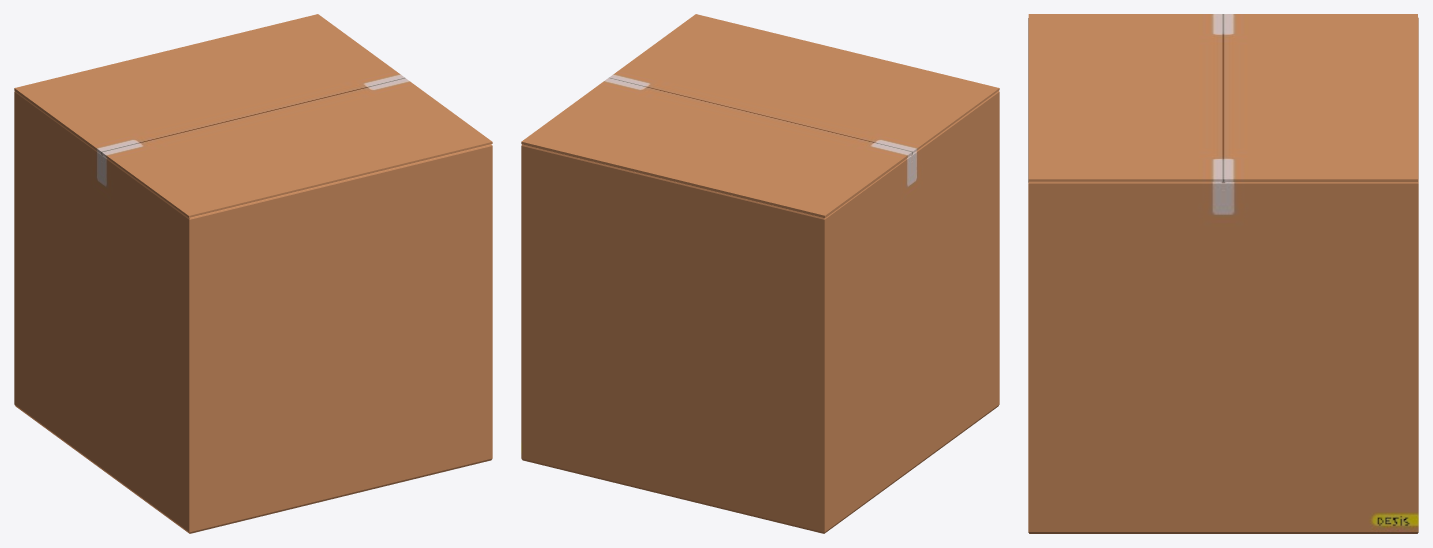
File: Caja.fbx
The picture shows the model from 3 angles, left to right: view 1: azimuth 30°, elevation 25°; view 2: azimuth 150°, elevation 25°; view 3: azimuth 270°, elevation 25°; orthographic projection. The views are drawn at different scales.
Visible parts, largest first — view 1: Caja, Tapa1, Tapa2; view 2: Caja, Tapa2, Tapa1; view 3: Caja, Tapa2, Tapa1.
Part boxes in pixels (left/top/right/bottom): Caja: left=14, top=91, right=492, bottom=533; Tapa1: left=101, top=78, right=492, bottom=217; Tapa2: left=14, top=14, right=405, bottom=154; Caja: left=521, top=91, right=999, bottom=533; Tapa2: left=521, top=77, right=912, bottom=218; Tapa1: left=609, top=14, right=999, bottom=153; Caja: left=1028, top=17, right=1418, bottom=533; Tapa2: left=1222, top=14, right=1417, bottom=181; Tapa1: left=1028, top=14, right=1224, bottom=181.
Bounding box in the file's own units: 200 × 201 × 200.
